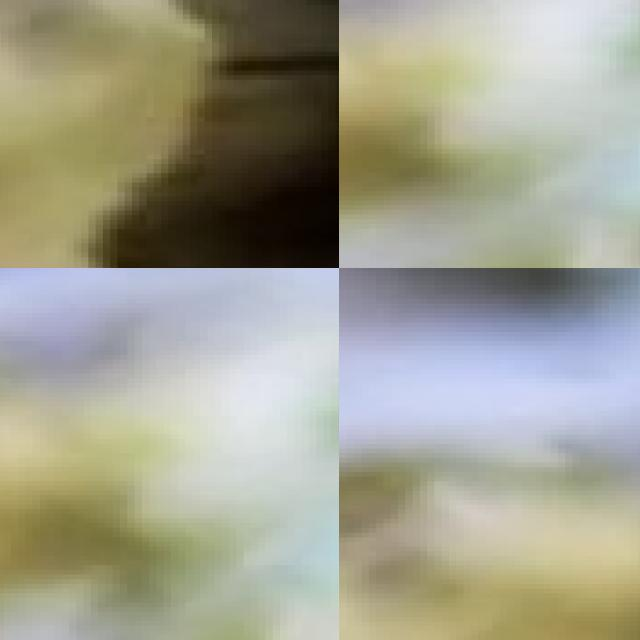fish: (0, 0, 339, 268), (339, 168, 543, 268)
